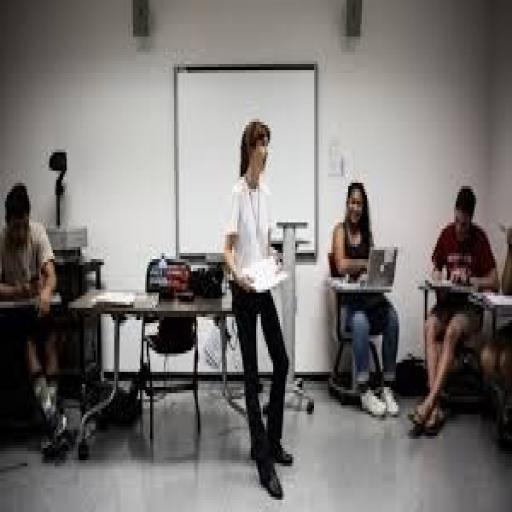sleeping: (220, 116, 295, 503), (406, 180, 500, 439), (0, 179, 73, 460), (328, 176, 402, 420)
